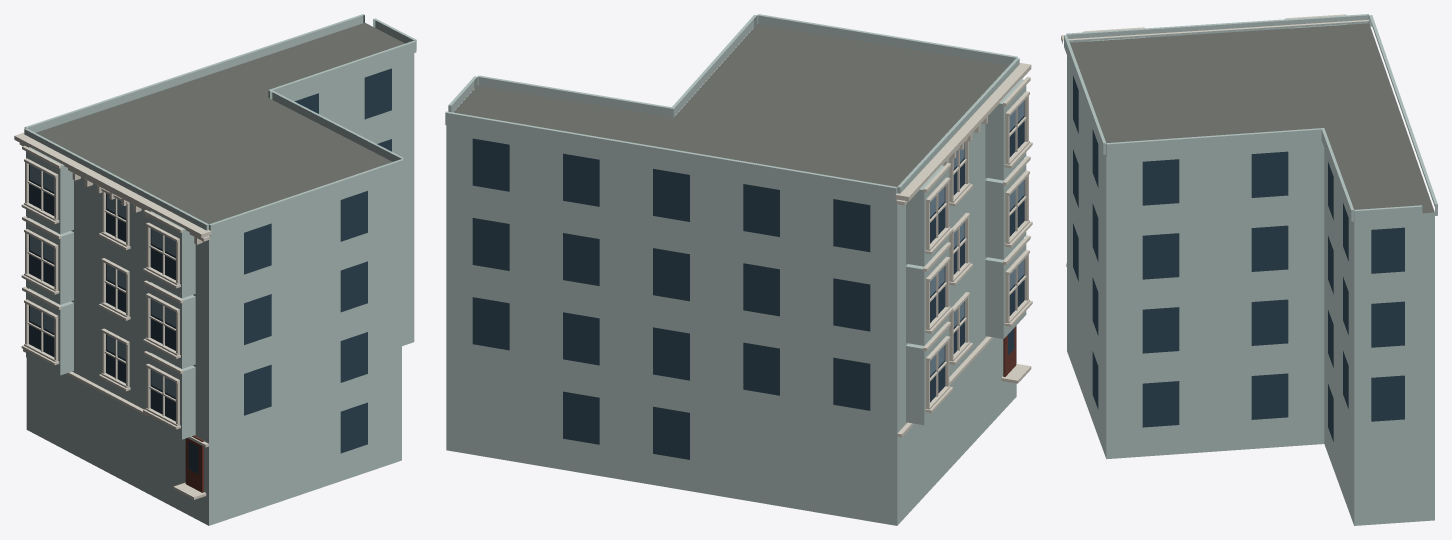
The picture shows the model from 3 angles, left to right: view 1: azimuth 30°, elevation 25°; view 2: azimuth 150°, elevation 25°; view 3: azimuth 270°, elevation 25°; orthographic projection. The views are drawn at different scales.
Parts seen in each view (by area): view 1: Footprint 0 / surface 2, Footprint 0 / surface 1, Facade bay volumes, Inset glazing, Cornices and window frames, Sky reflection panels, Storefronts and doors; view 2: Footprint 0 / surface 2, Footprint 0 / surface 1, Inset glazing, Facade bay volumes, Cornices and window frames, Sky reflection panels; view 3: Footprint 0 / surface 2, Footprint 0 / surface 1, Inset glazing, Facade bay volumes, Cornices and window frames.
Boxes of the visible parts, <box> form: Footprint 0 / surface 2: <box>26,53,414,525</box>; Footprint 0 / surface 1: <box>36,23,404,224</box>; Facade bay volumes: <box>24,14,416,439</box>; Inset glazing: <box>29,68,391,474</box>; Cornices and window frames: <box>14,132,211,499</box>; Sky reflection panels: <box>30,165,175,397</box>; Storefronts and doors: <box>185,435,203,492</box>; Footprint 0 / surface 2: <box>446,123,1016,525</box>; Footprint 0 / surface 1: <box>453,24,1009,186</box>; Inset glazing: <box>472,100,1024,459</box>; Facade bay volumes: <box>445,14,1026,424</box>; Cornices and window frames: <box>895,63,1032,437</box>; Sky reflection panels: <box>930,101,1024,375</box>; Footprint 0 / surface 2: <box>1067,56,1434,525</box>; Footprint 0 / surface 1: <box>1070,23,1434,213</box>; Inset glazing: <box>1073,75,1404,441</box>; Facade bay volumes: <box>1064,14,1437,222</box>; Cornices and window frames: <box>1061,14,1368,266</box>.
Size of the model in its own units: 19.01 by 13.67 by 14.77.
